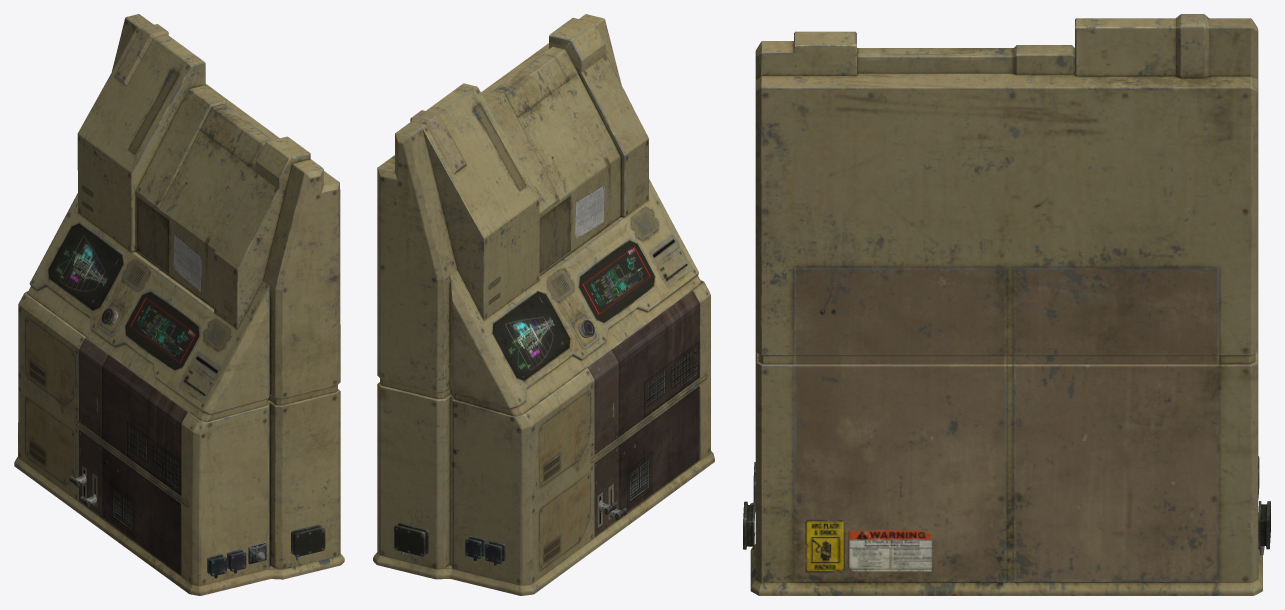
Rendered from prop_computerStation_B.glb.
The picture shows the model from 3 angles, left to right: view 1: azimuth 30°, elevation 25°; view 2: azimuth 150°, elevation 25°; view 3: azimuth 270°, elevation 25°; orthographic projection. The views are drawn at different scales.
Visible parts, largest first — view 1: prop_computerStation_B; view 2: prop_computerStation_B; view 3: prop_computerStation_B.
Boxes of the visible parts, x1=… form: prop_computerStation_B: x1=14, y1=14, x2=344, y2=595; prop_computerStation_B: x1=373, y1=14, x2=714, y2=595; prop_computerStation_B: x1=743, y1=14, x2=1270, y2=595.
Bounding box in the file's own units: 1.09 × 2.75 × 2.35.
1 material, 1 textured.
